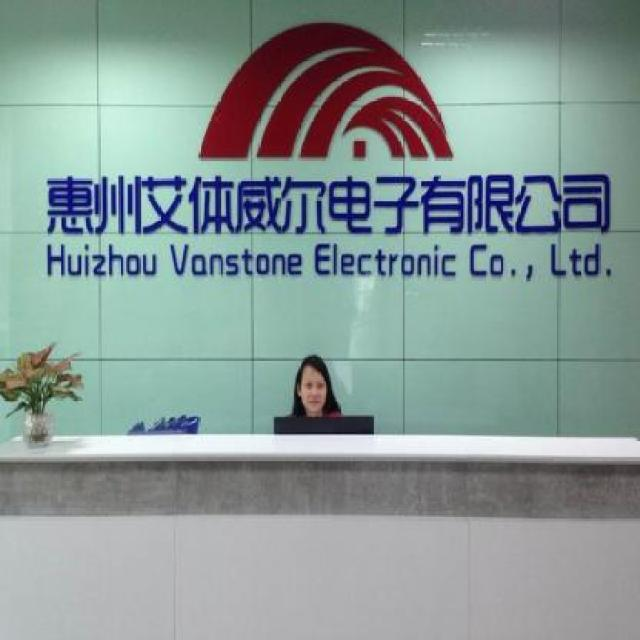frontdesk: (0, 411, 640, 640)
